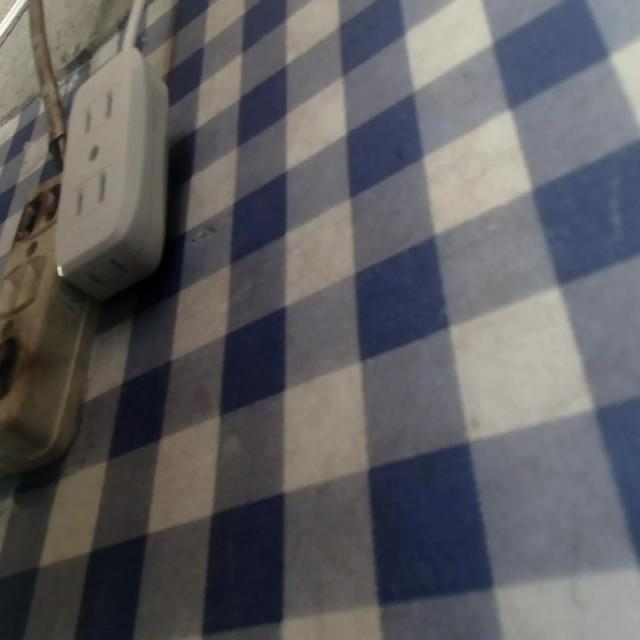-: (17, 181, 63, 232), (0, 331, 23, 398)
